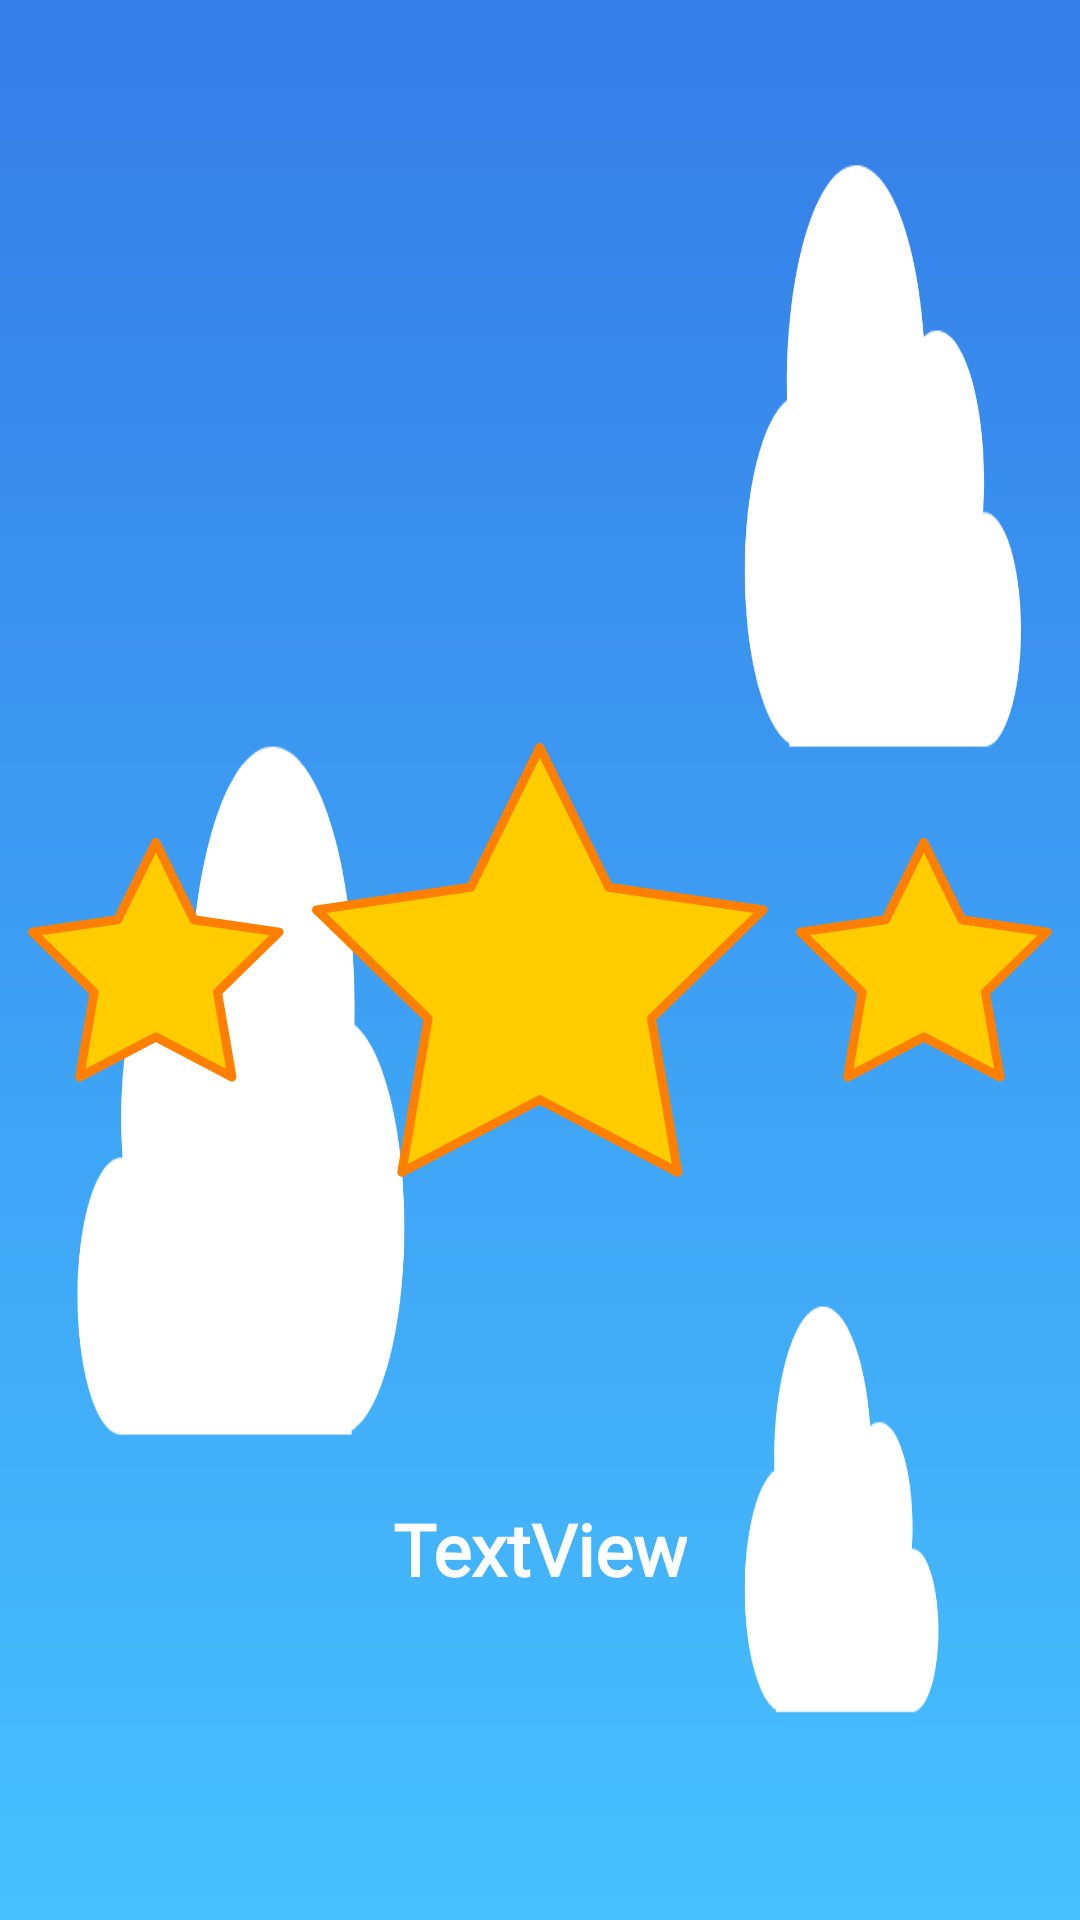

Named icons in this screenshot (1080×1920) and their centers, point (x, y):
start medium: point (156, 960), point (924, 960)
